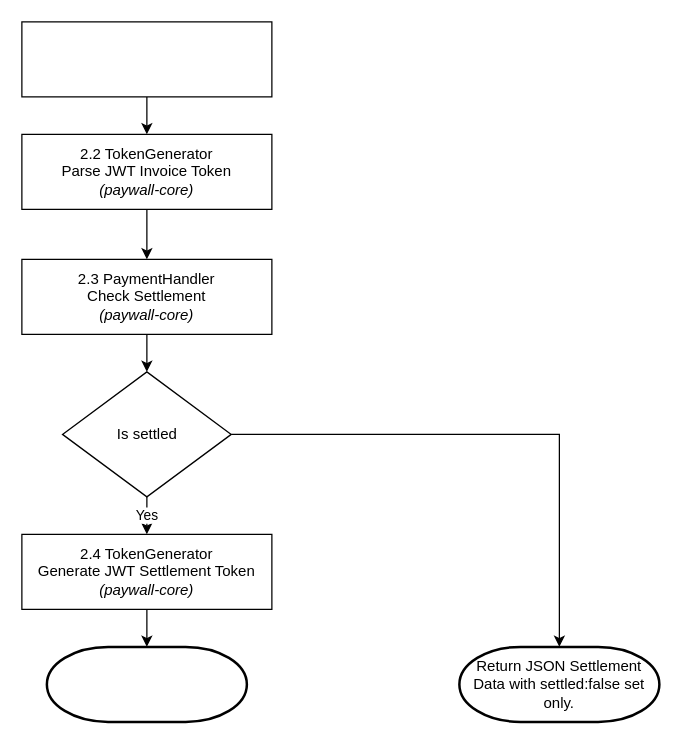
The diagram is 683 pixels wide and 745 high, and some of its shapes have lost their labels. Here are the shapes that lost their labels. From the top down, the centre of each, then its label:
point (146, 59): 2.1 CheckSettlementController (paywall-spring)
point (146, 683): Return full JSON Settlement Data
